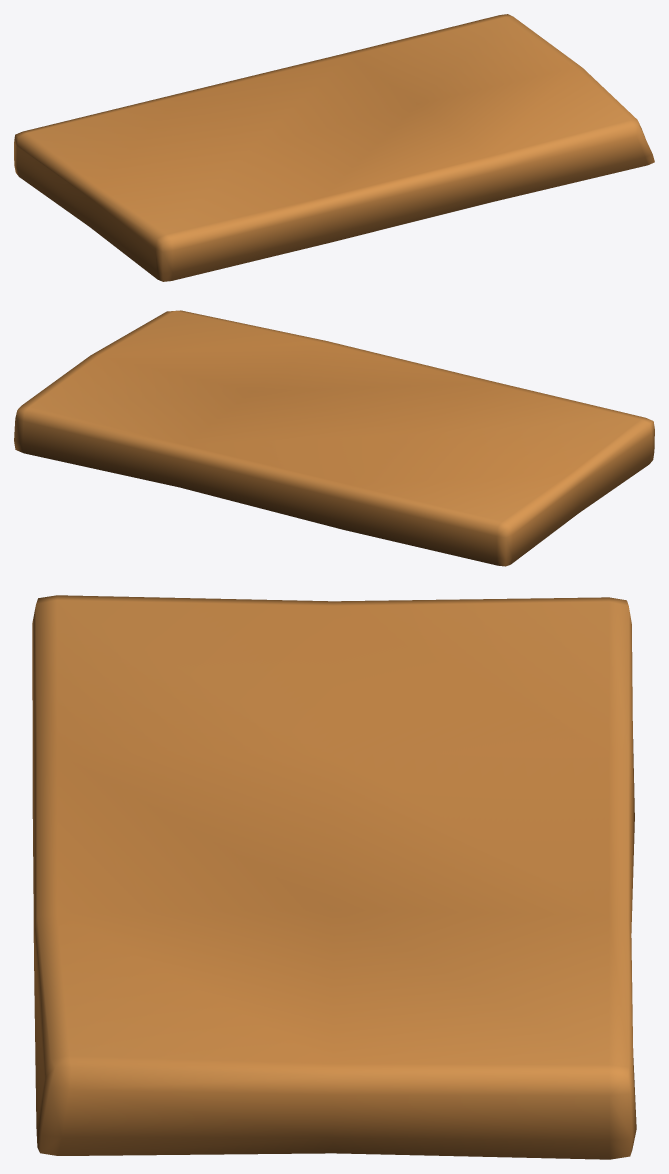
The model's file is slab_c.glb.
3 renders of one model, top to bottom at view 1: azimuth 30°, elevation 25°; view 2: azimuth 150°, elevation 25°; view 3: azimuth 270°, elevation 25°, orthographic. The views are drawn at different scales.
Visible parts, largest first — view 1: slab_c; view 2: slab_c; view 3: slab_c.
Boxes of the visible parts, x1=… form: slab_c: x1=14, y1=14, x2=654, y2=281; slab_c: x1=14, y1=310, x2=654, y2=566; slab_c: x1=32, y1=595, x2=636, y2=1159.
Size of the model in its own units: 1.91 by 0.1646 by 1.01.
